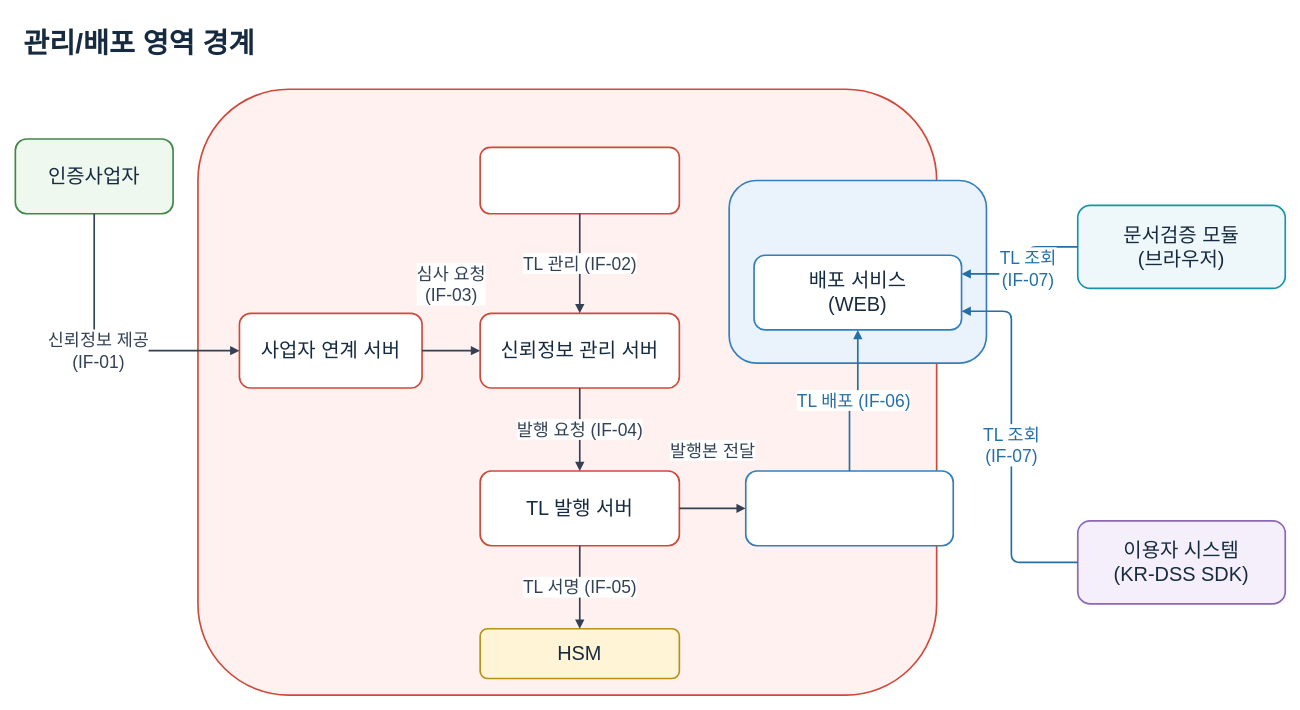
Some shapes in this 1300 by 710 pixel diagram are drawn without their labels. The shapes that lost their labels are listed below. From the top down, each one's box as (x1, y1, x2, y2) in pixels, then its label:
(479, 146, 680, 214): 관리 콘솔
(728, 179, 987, 364): 배포 시스템 (공개망)
(197, 88, 937, 696): 관리 시스템 (폐쇄망)
(745, 470, 954, 546): 배포 서비스 (WAS)
